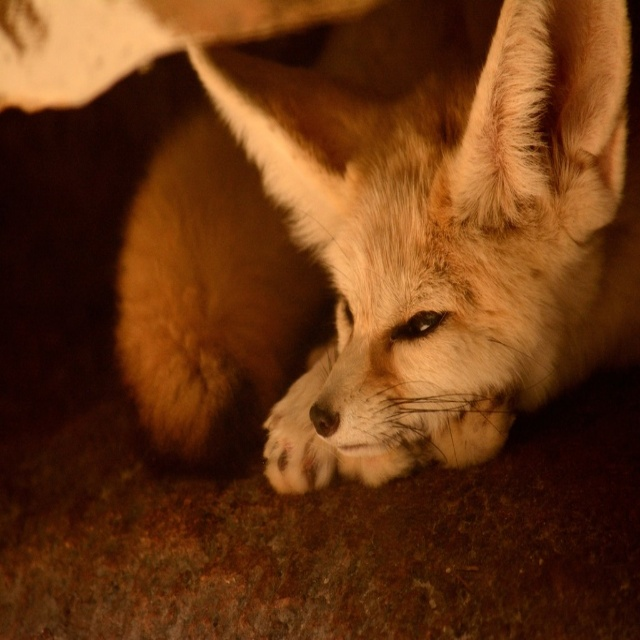Fox: (112, 0, 640, 495)
